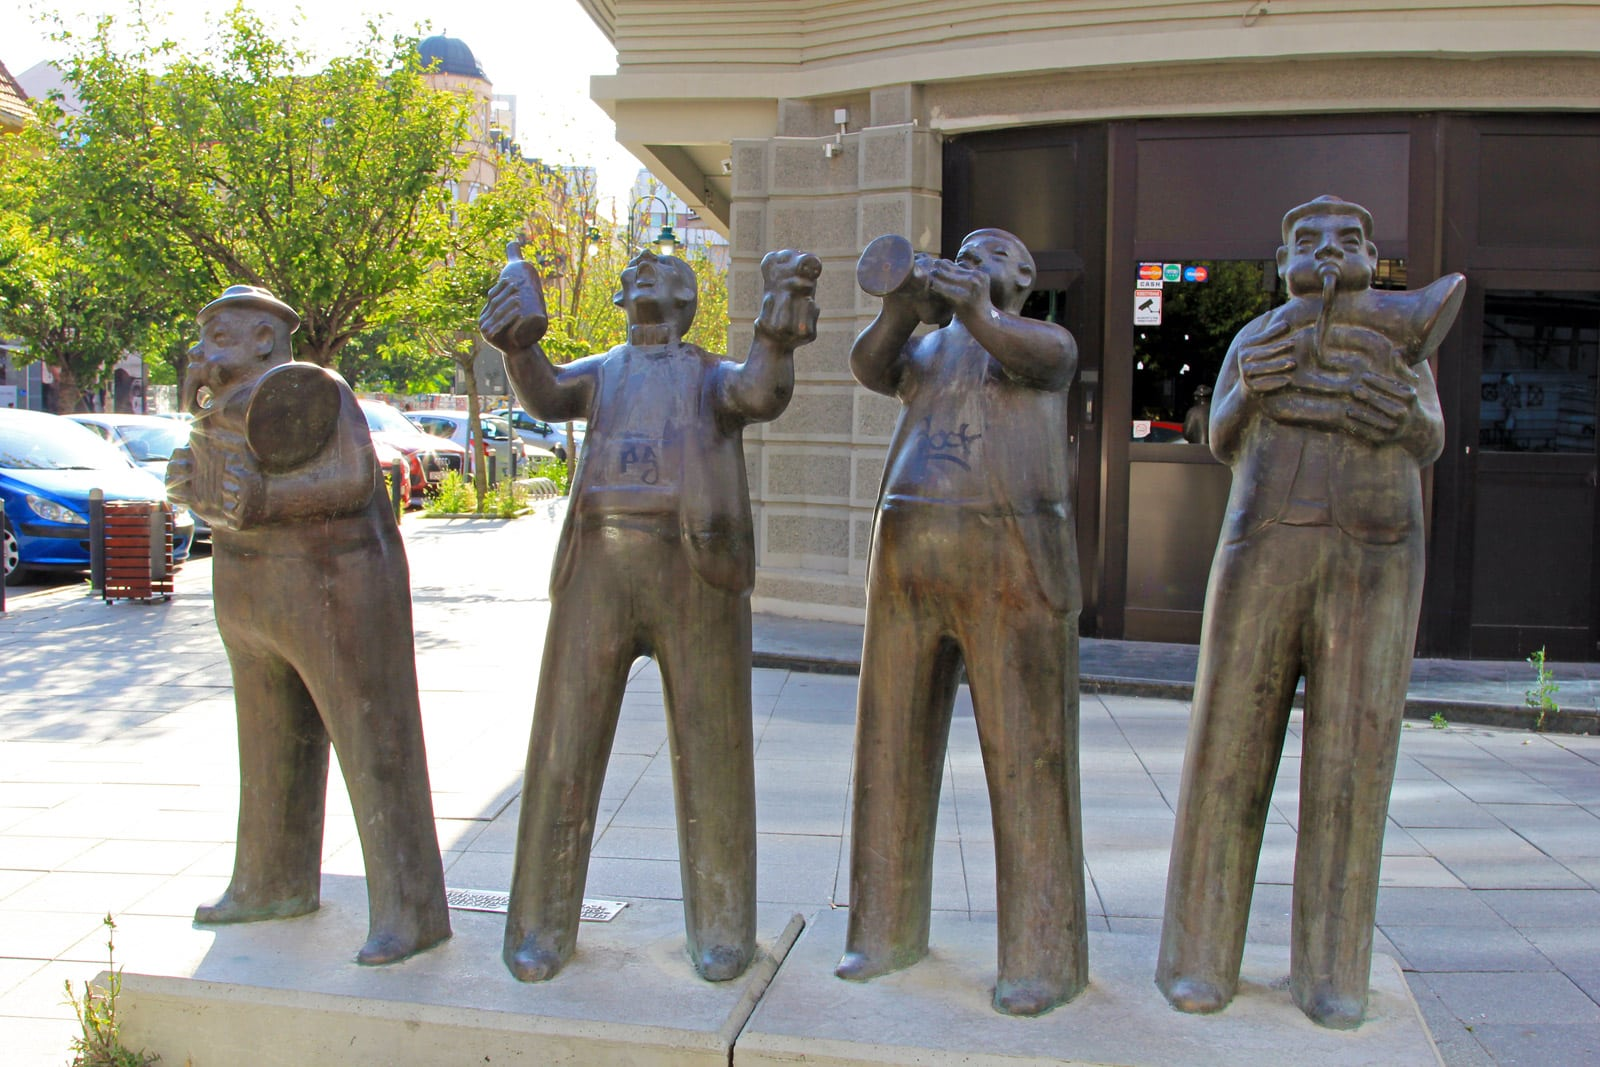person-like: (1150, 188, 1474, 1035), (471, 232, 829, 994), (828, 220, 1102, 1024), (158, 277, 464, 973)
